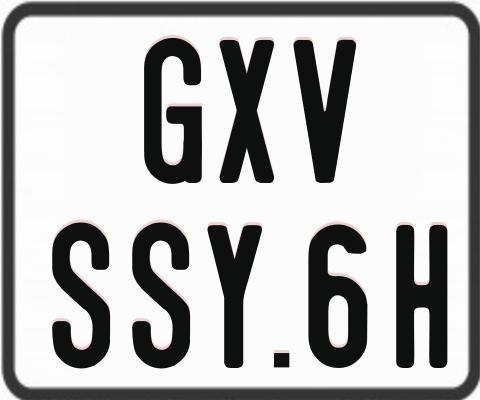6: (308, 223, 373, 369)
G: (143, 35, 202, 186)
H: (396, 225, 451, 370)
S: (132, 219, 191, 371), (49, 222, 108, 372)
V: (291, 40, 354, 183)
X: (219, 38, 277, 181)
Y: (205, 224, 262, 368)
